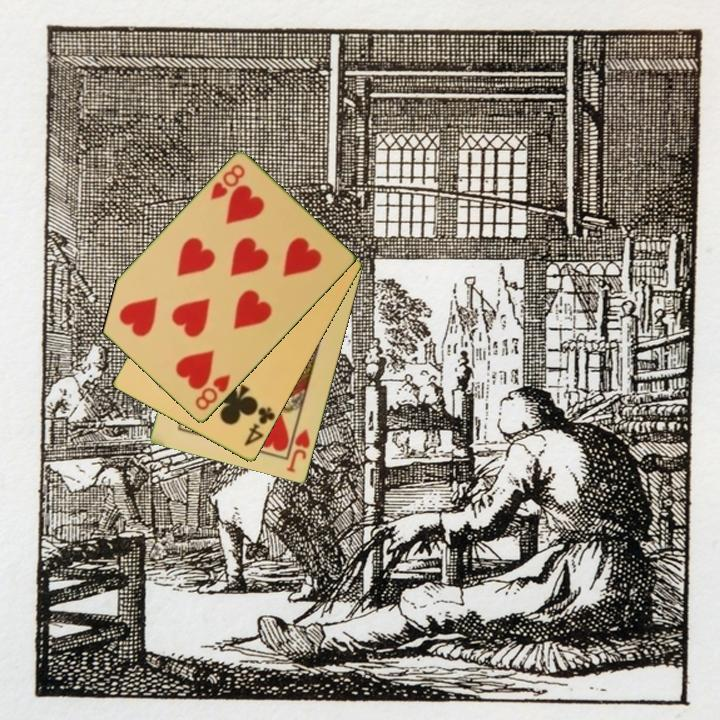4c: (241, 404, 278, 449)
8h: (192, 371, 234, 414), (206, 161, 248, 203)
Jh: (283, 418, 313, 475)
